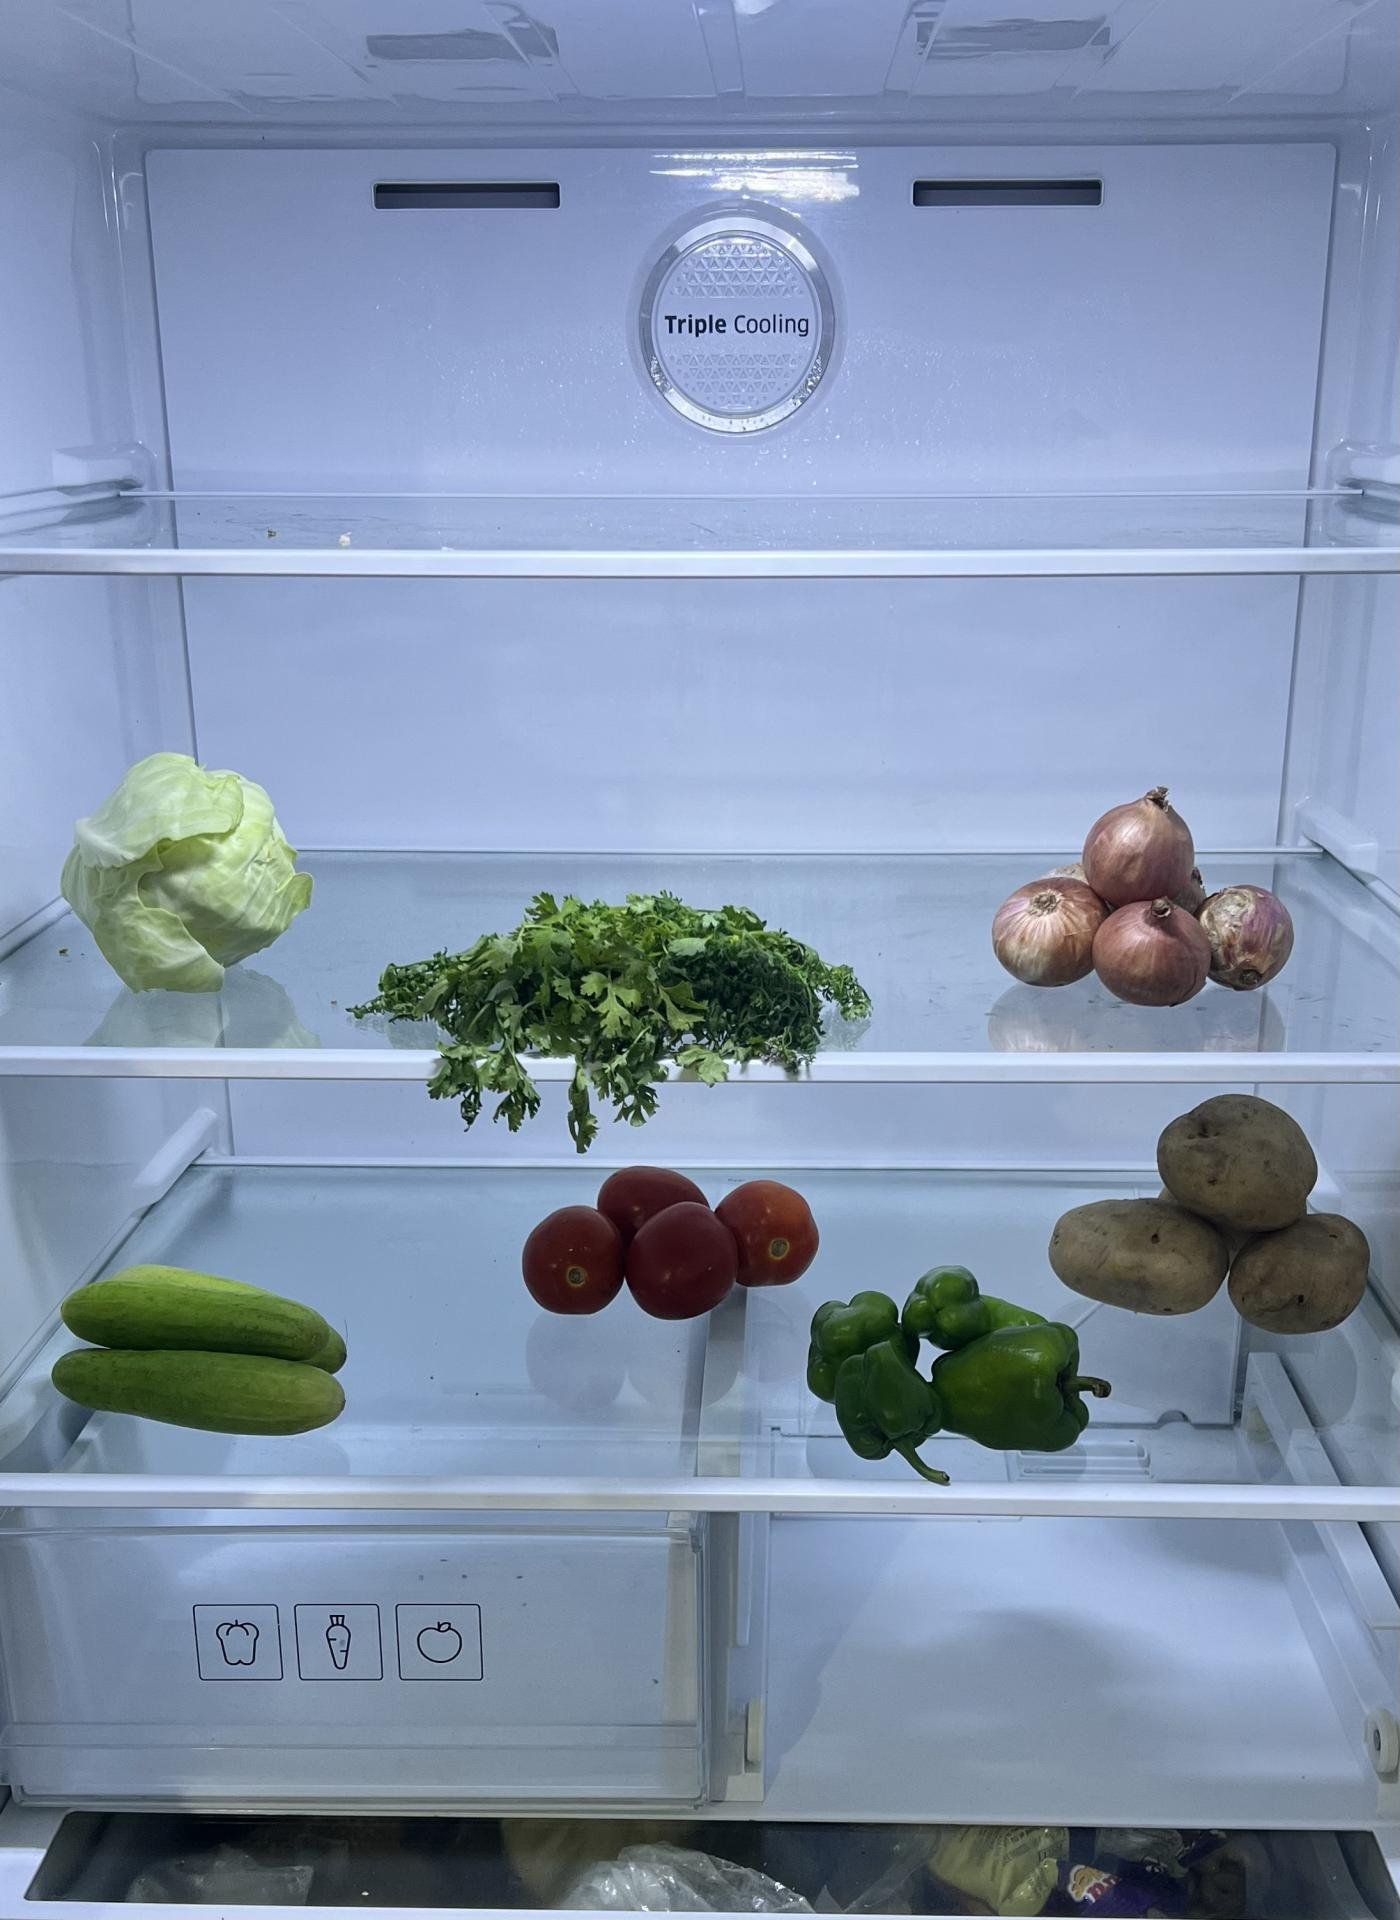cabbage: (60, 754, 312, 1000)
capsicum: (802, 1270, 1096, 1467)
coriander: (361, 896, 856, 1090)
cucumber: (46, 1267, 361, 1436)
onion: (997, 778, 1302, 1002)
potato: (1050, 1094, 1373, 1337)
tomato: (519, 1161, 820, 1319)
